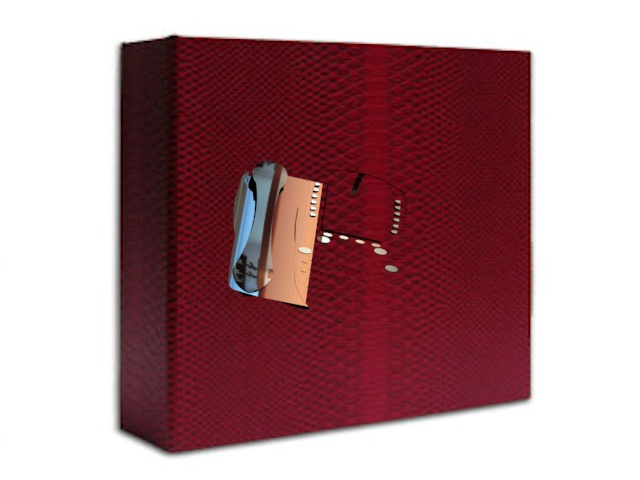phone: (224, 160, 408, 328)
